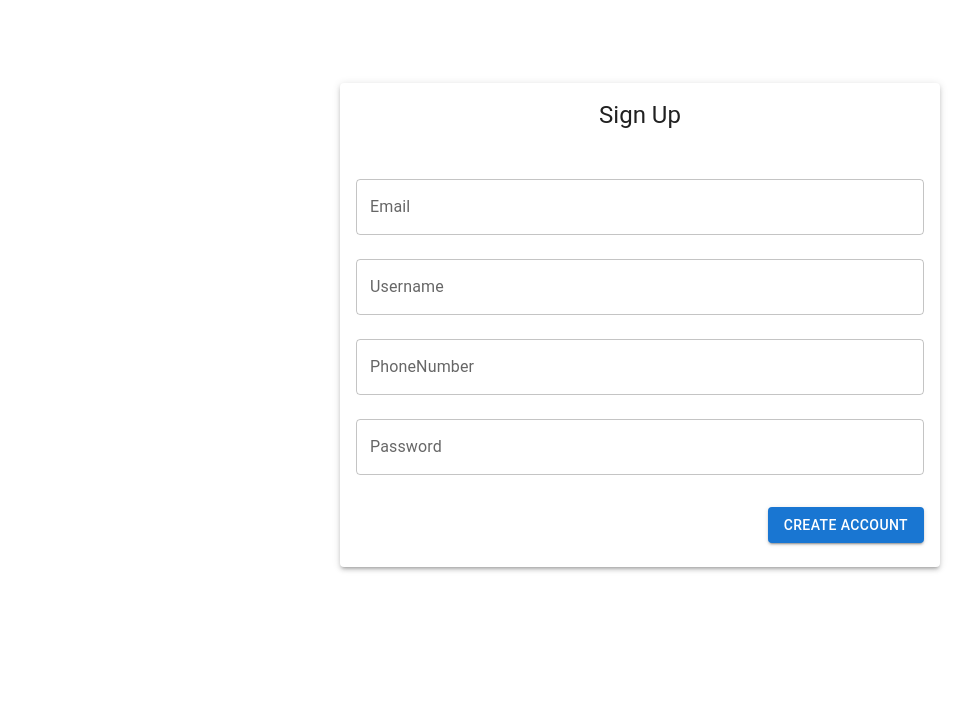
Scenario: registers with the selected role
The width and height of the screenshot is (960, 701).
Type "ana@example.com" into the field labelled "Email" at (640,207), box [356,179,924,235]
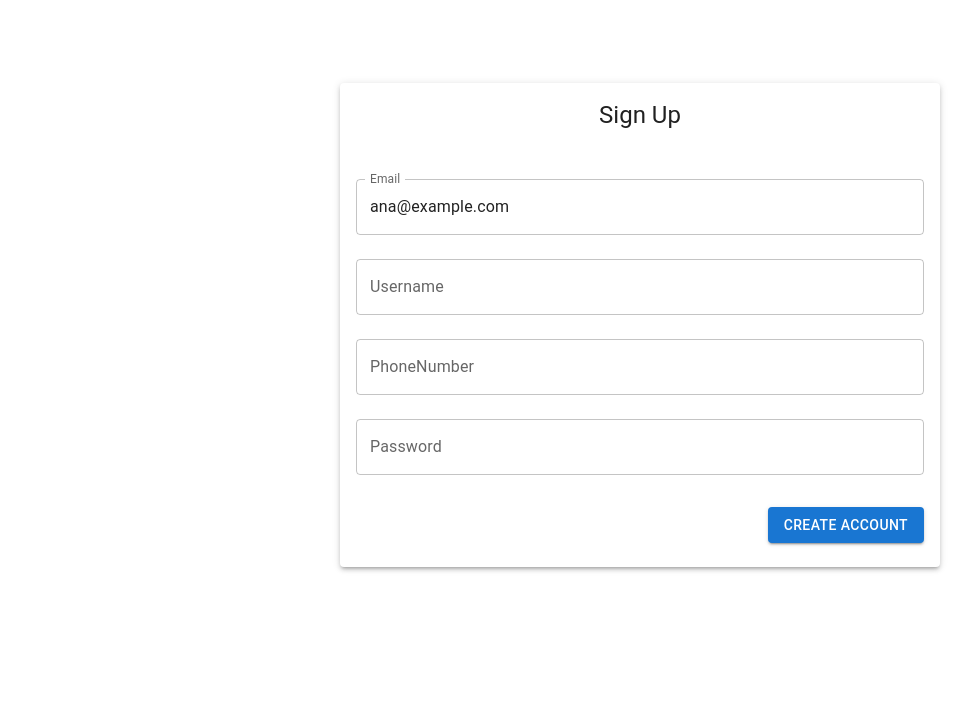
Type "ana" into the field labelled "Username" at (640,287), box [356,259,924,315]
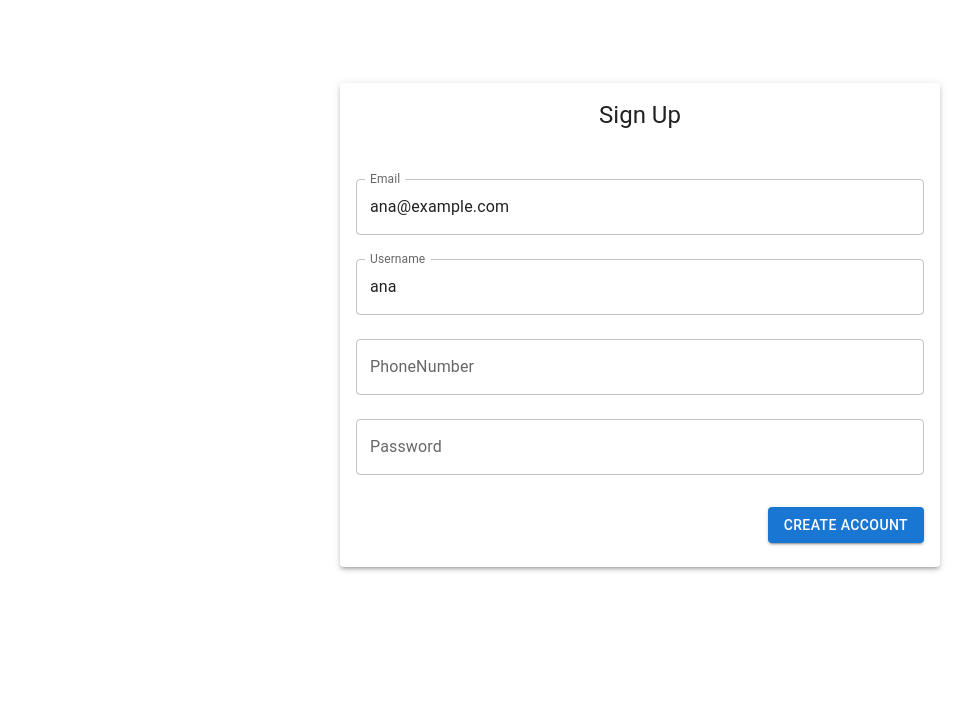
Type "0712345678" into the field labelled "PhoneNumber" at (640,367), box [356,339,924,395]
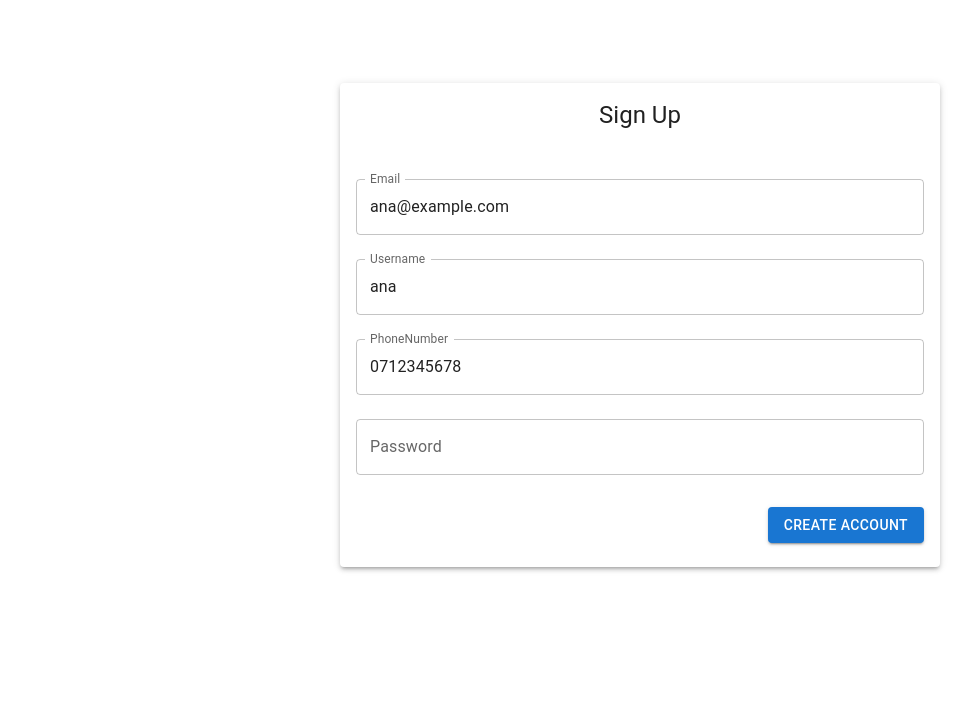
Type "secret1" into the password field labelled "Password" at (477,447), box [356,419,598,475]
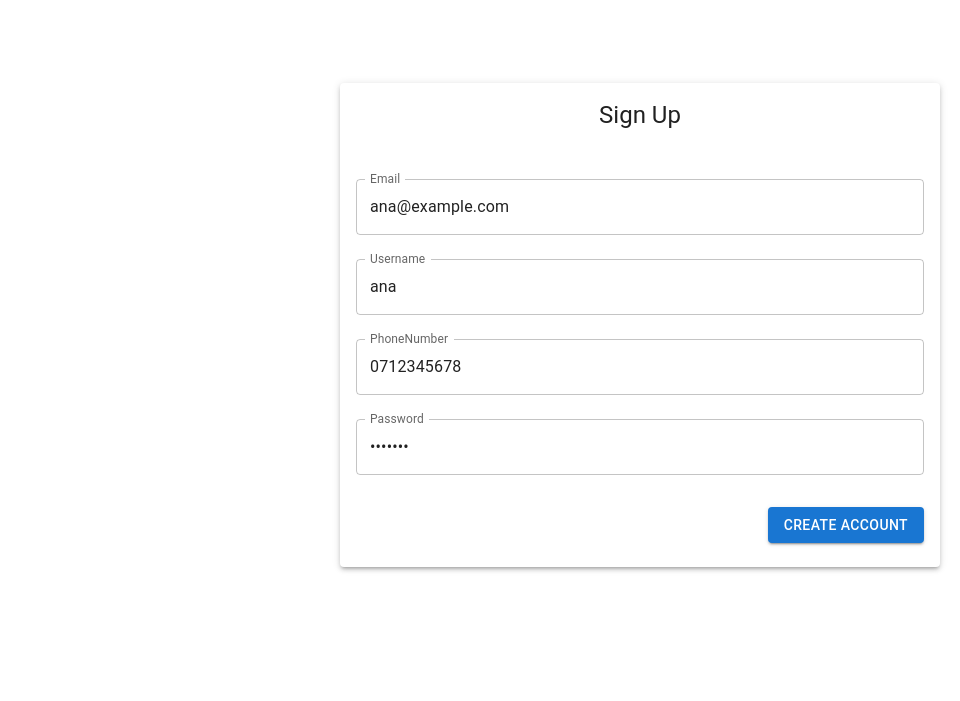
Click the button "Create Account" at (846,525), box [768,507,924,543]
(page scrolled)
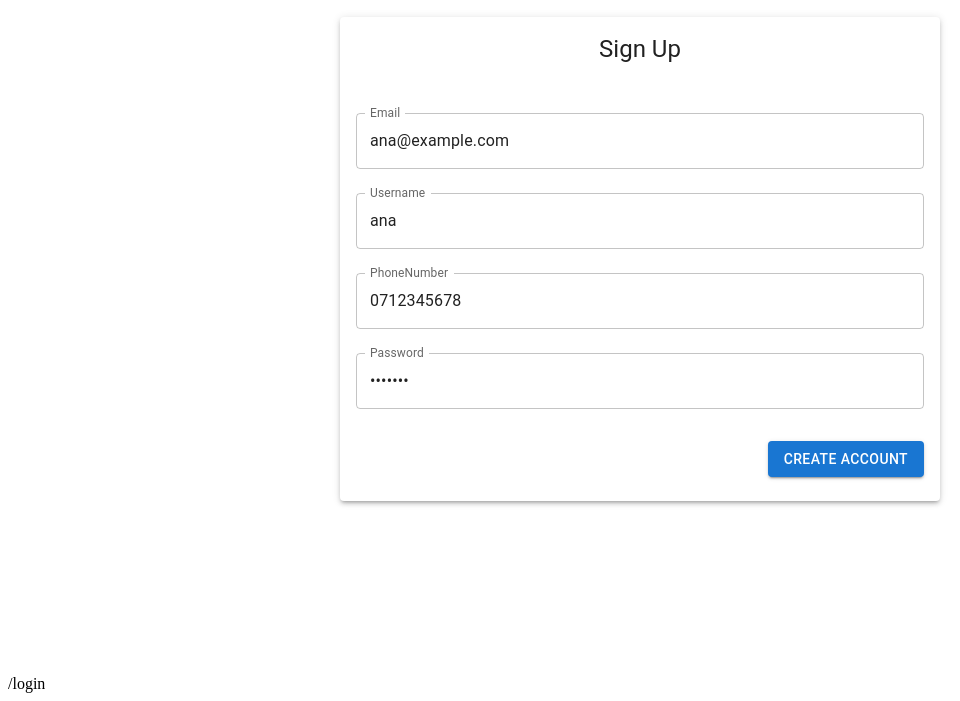
Result: the text with test id "path" reads "/login" at [8,675,45,692]
